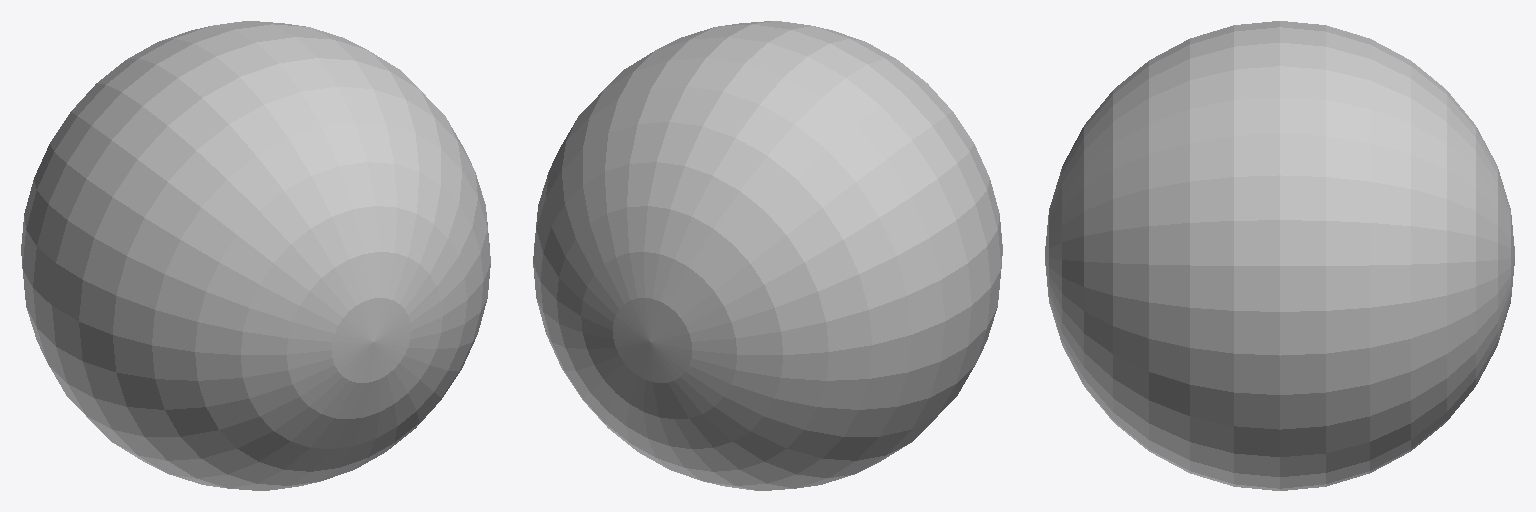
File: skySphere.obj
3 views of the same model, side by side, from view 1: azimuth 30°, elevation 25°; view 2: azimuth 150°, elevation 25°; view 3: azimuth 270°, elevation 25° (orthographic).
Visible parts, largest first — view 1: skySphere; view 2: skySphere; view 3: skySphere.
Boxes of the visible parts, x1=… form: skySphere: x1=21, y1=21, x2=490, y2=490; skySphere: x1=533, y1=21, x2=1002, y2=490; skySphere: x1=1045, y1=21, x2=1514, y2=490.
Size of the model in its own units: 0.7874 by 0.7874 by 0.7874.